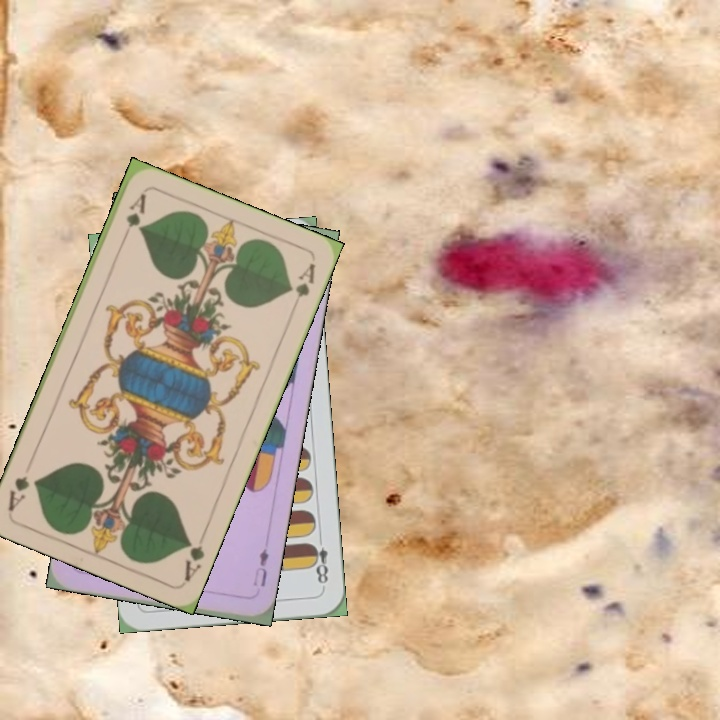E8: (306, 532, 331, 591)
EU: (249, 544, 272, 590)
GA: (118, 189, 149, 245), (179, 527, 209, 584)
